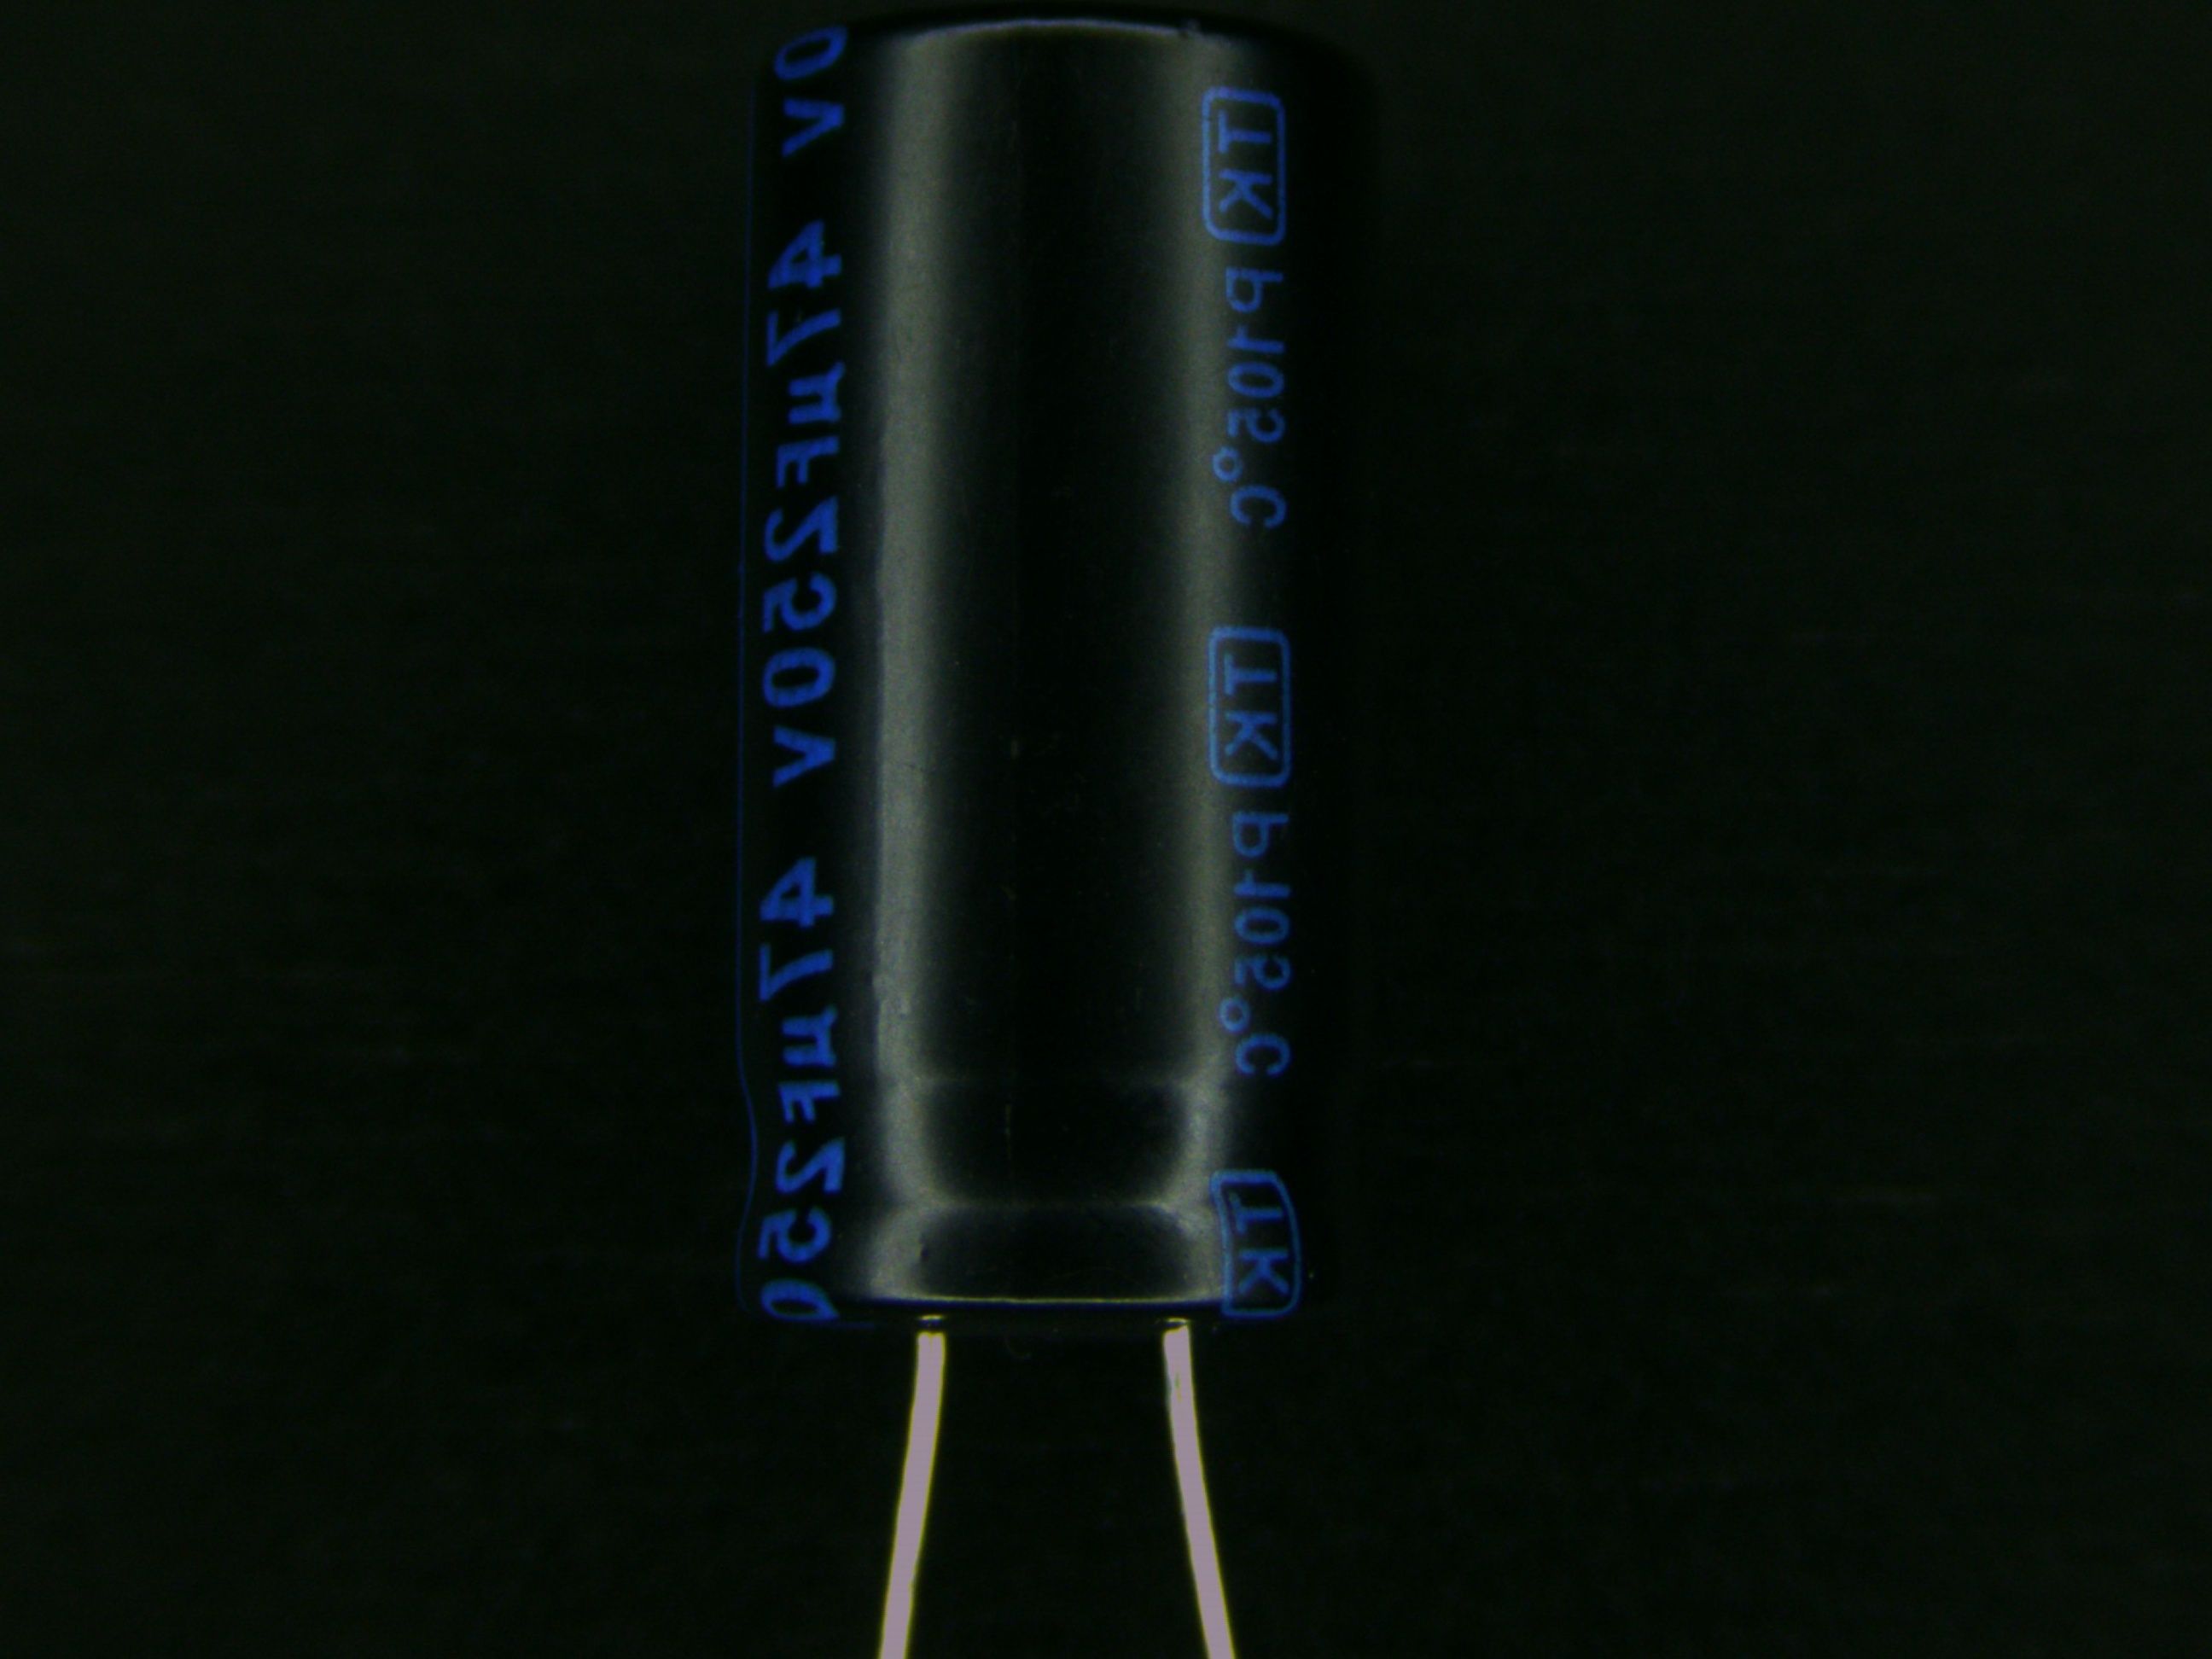c2: (730, 14, 1381, 1469)
